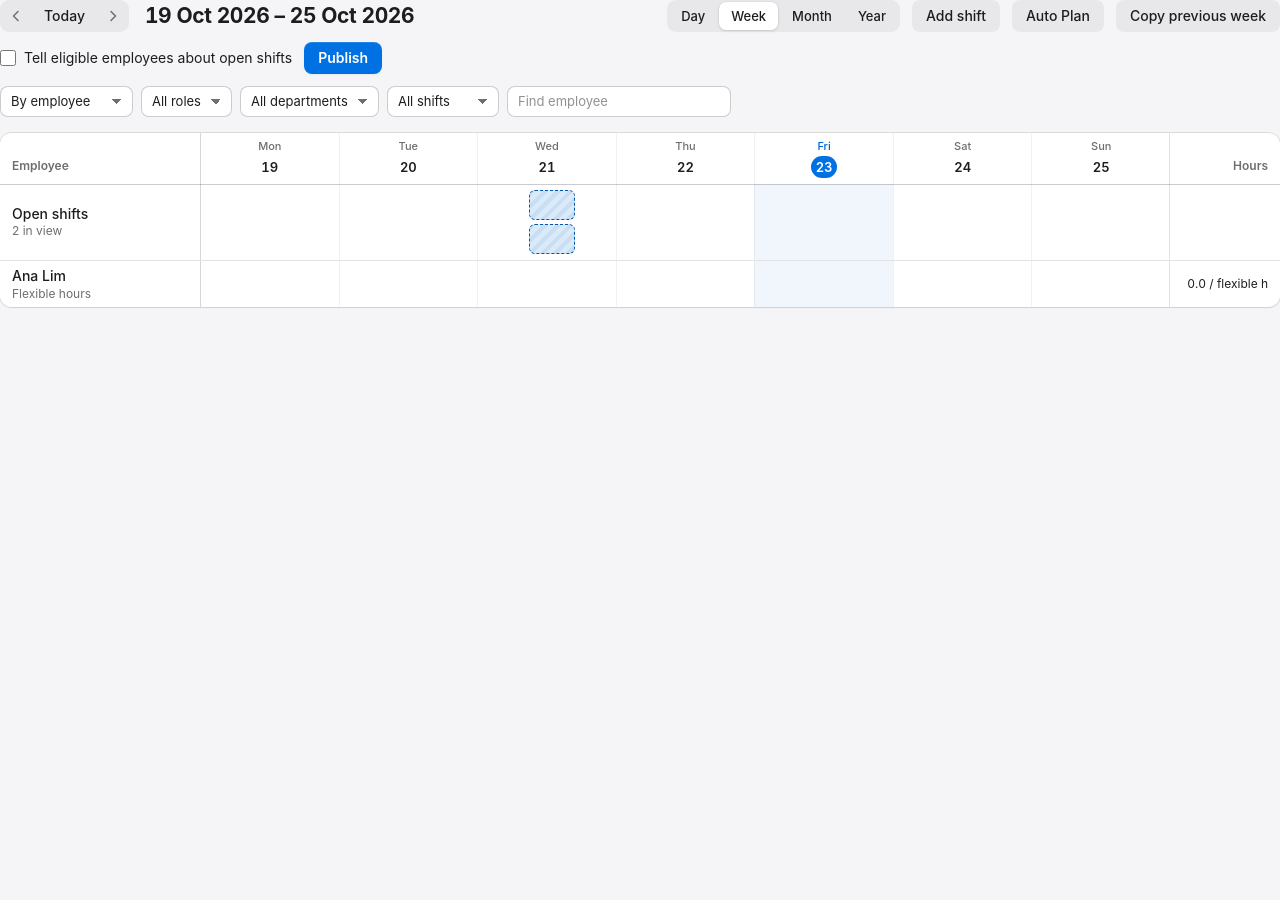
it: SchedulePage Auto Plan › opens the result after the run and returns focus to the Auto Plan button on Close
This screenshot has width=1280, height=900.
Expected: the element named "Schedule" is shown, [0,133,1279,307]
Click the button "Auto Plan".
click(1058, 16)  # box [1012,0,1104,32]
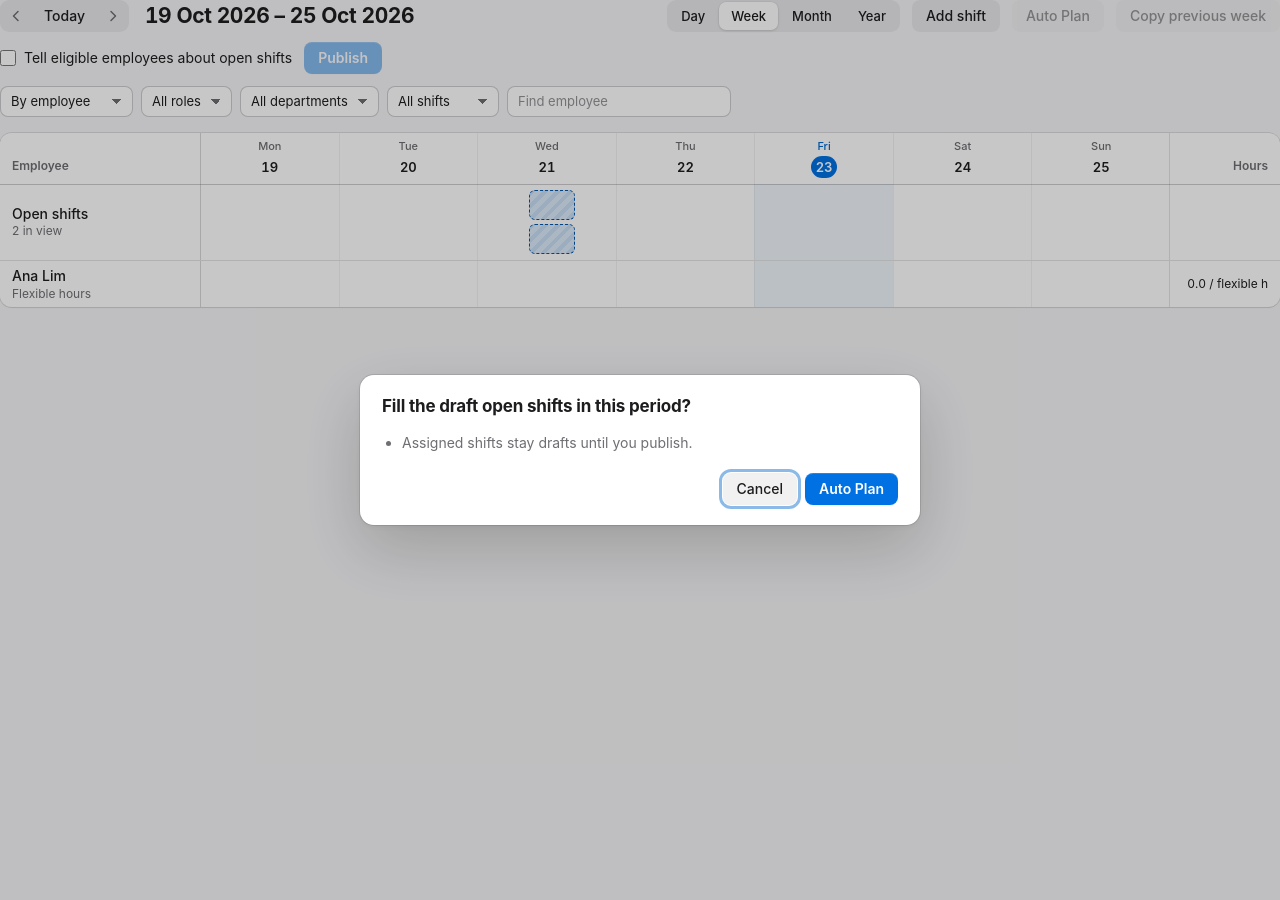
Click the button "Auto Plan".
click(852, 489)  # box [805,473,898,505]
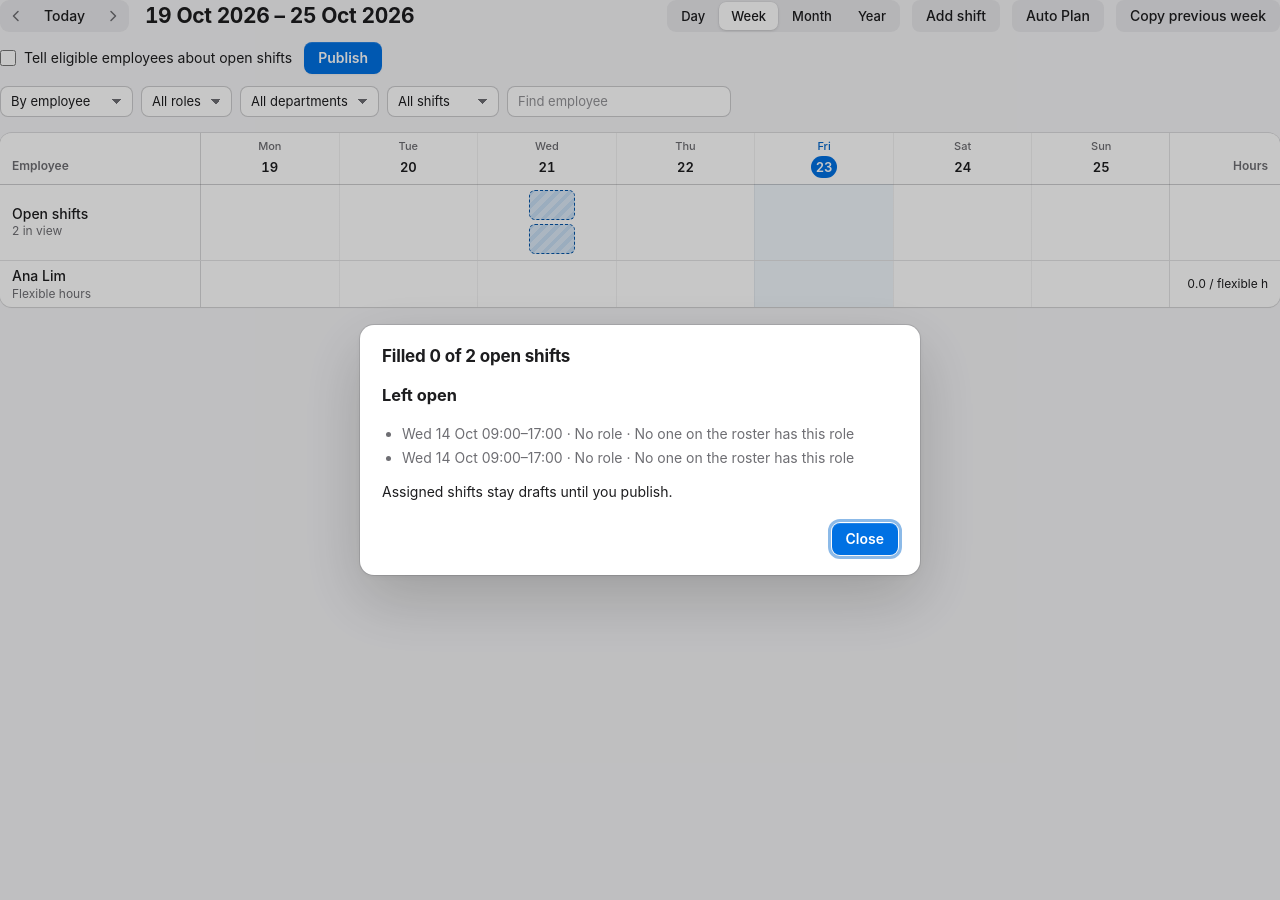
Click the button "Close".
click(865, 539)  # box [832,523,898,555]
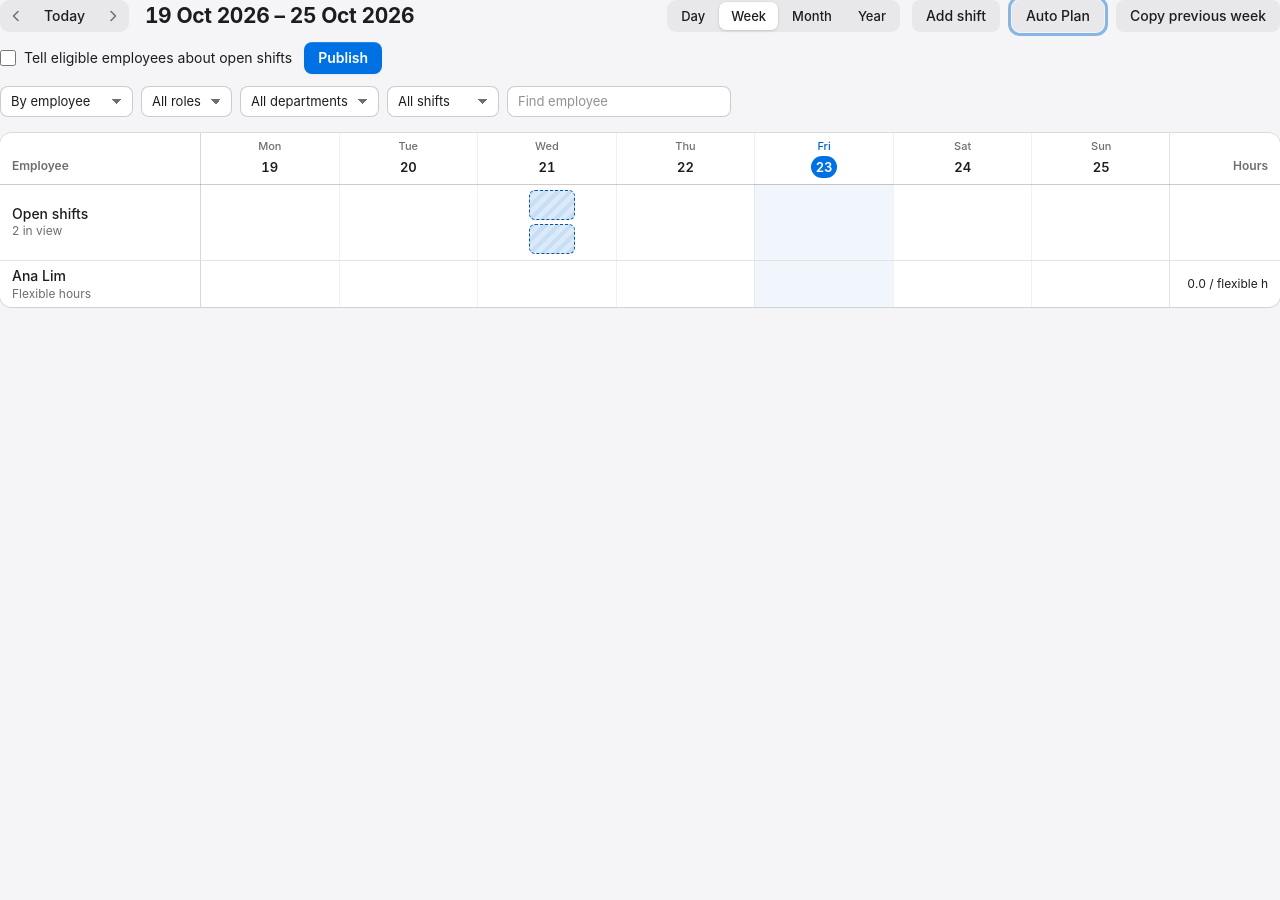
Expected: the button "Auto Plan" is enabled, [1012,0,1104,32]
Expected: the dialog is gone
